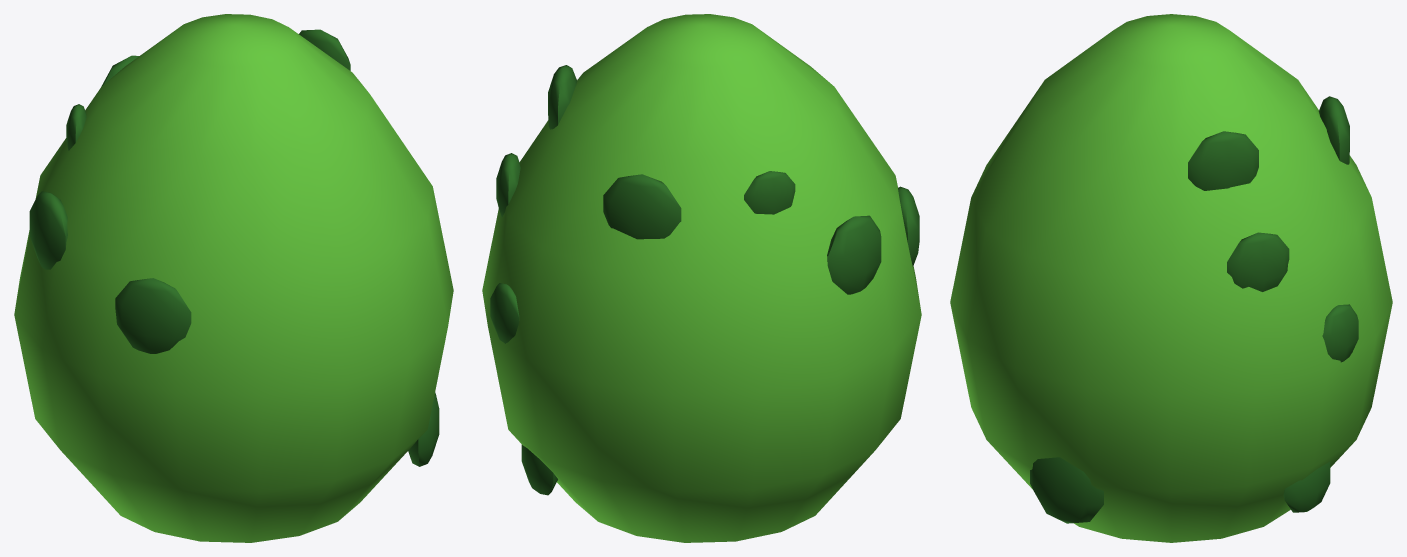
File: JungleEgg.fbx
The picture shows the model from 3 angles, left to right: view 1: azimuth 30°, elevation 25°; view 2: azimuth 150°, elevation 25°; view 3: azimuth 270°, elevation 25°; orthographic projection.
Visible parts, largest first — view 1: JungleEgg; view 2: JungleEgg; view 3: JungleEgg.
Part boxes in pixels (bbox=[...]): JungleEgg: bbox=[14, 14, 453, 542]; JungleEgg: bbox=[482, 14, 921, 542]; JungleEgg: bbox=[950, 14, 1392, 542].
Size of the model in its own units: 2.1 by 2.5 by 2.1.
1 material, 1 textured.
